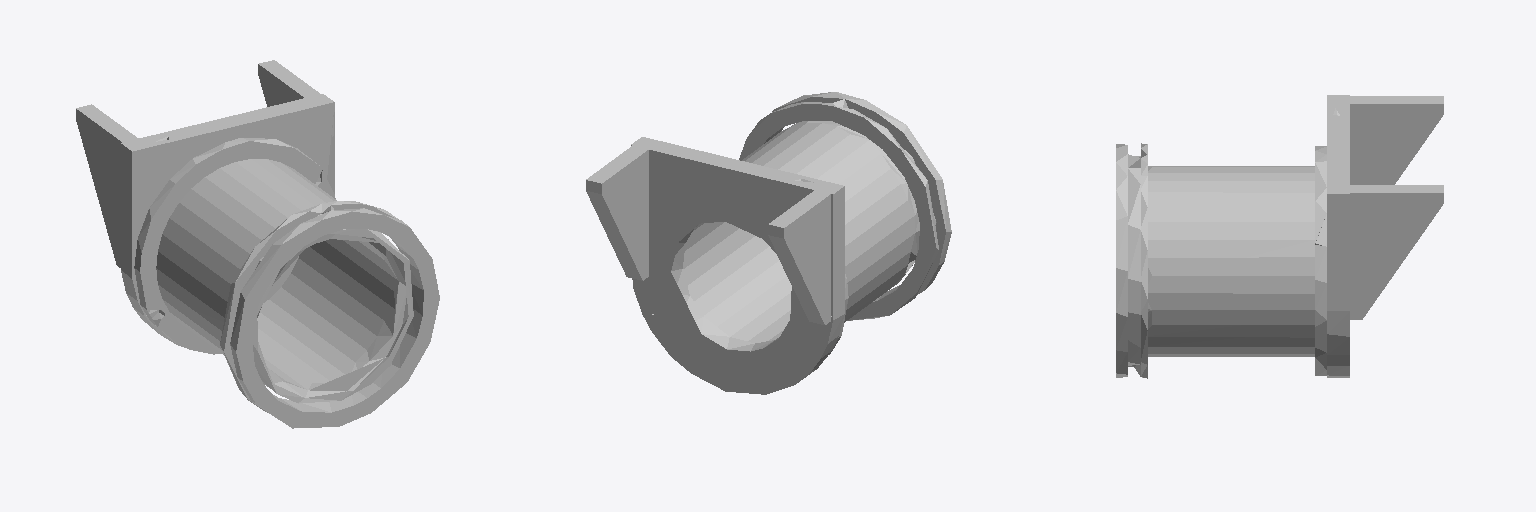
The model's file is dual_rm_75b_description_platform_base_link_visuals_r_base_link1_mesh.obj.
The picture shows the model from 3 angles: view 1: azimuth 30°, elevation 25°; view 2: azimuth 150°, elevation 25°; view 3: azimuth 270°, elevation 25°; orthographic projection.
Bounding box in the file's own units: 0.101 × 0.1053 × 0.1401.